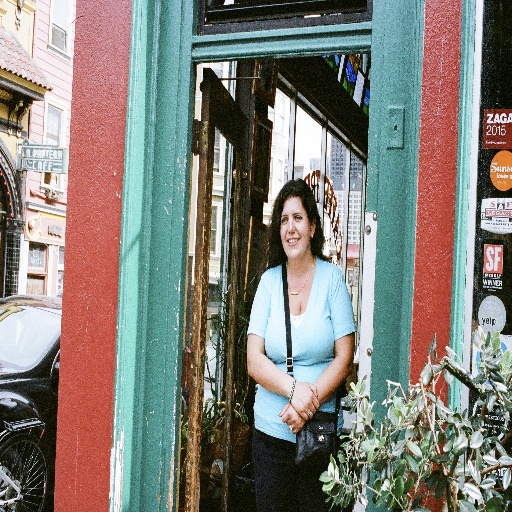hand: (286, 379, 329, 441), (278, 401, 304, 435)
